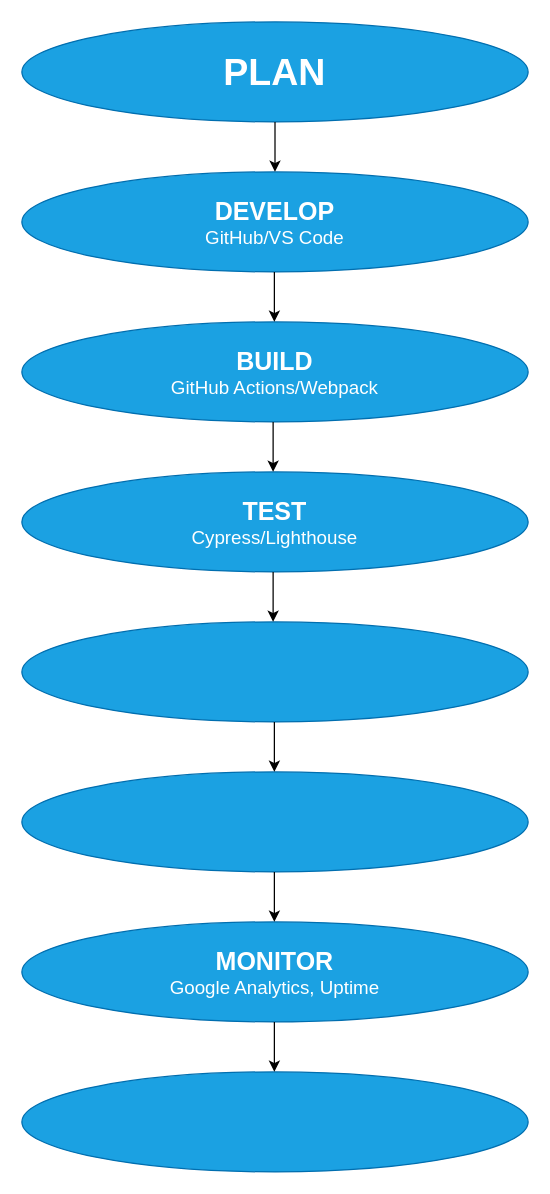
Some shapes in this 550 by 1194 pixel diagram are drawn without their labels. The shapes that lost their labels are listed below. From the top down, each one's centre as x and y in pixels, then its label:
At pixel 274 671: "RELEASE GitHub Releases".
At pixel 274 821: "DEPLOY Netlify/GitHub Pages".
At pixel 274 1121: "FEEDBACK Forms/ Heatmaps/ Logs".
